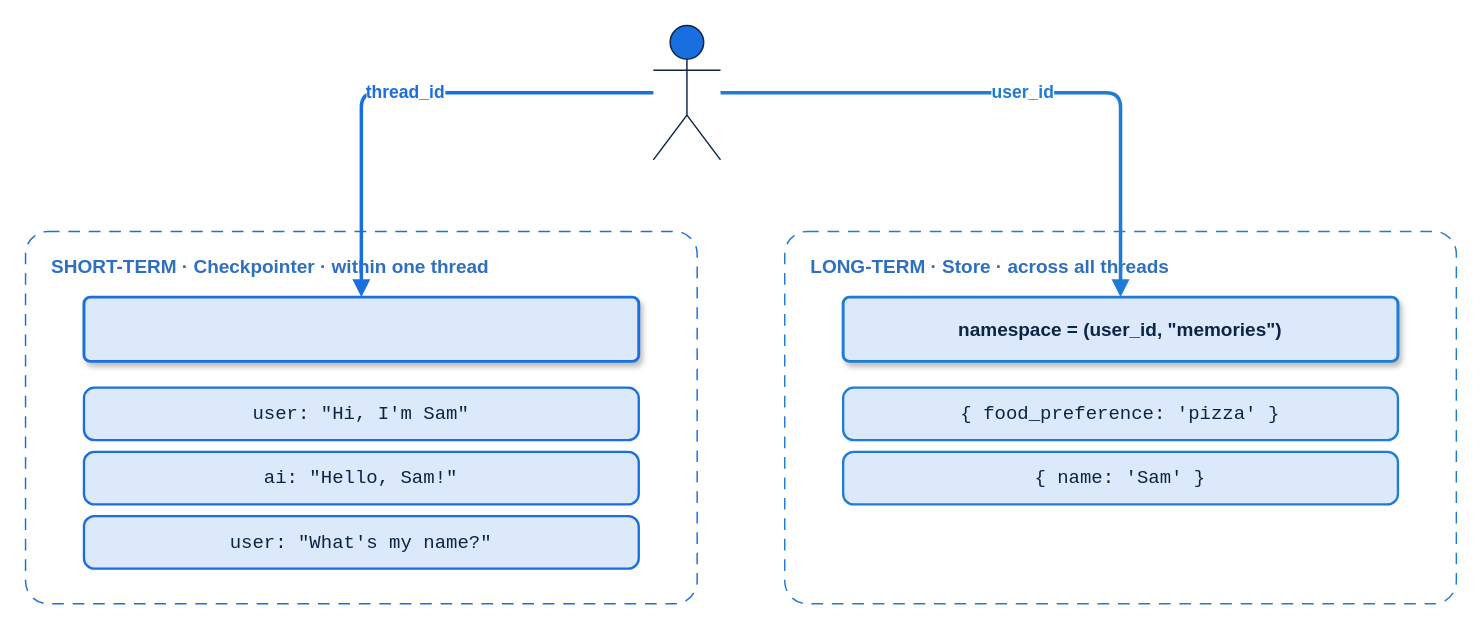
The diagram is 1482 pixels wide and 629 high, and some of its shapes have lost their labels. The shapes that lost their labels are listed below. From the top down, each one's centre as x and y in pixels, then its label:
point (686, 92): User
point (362, 330): thread_id = "1"
